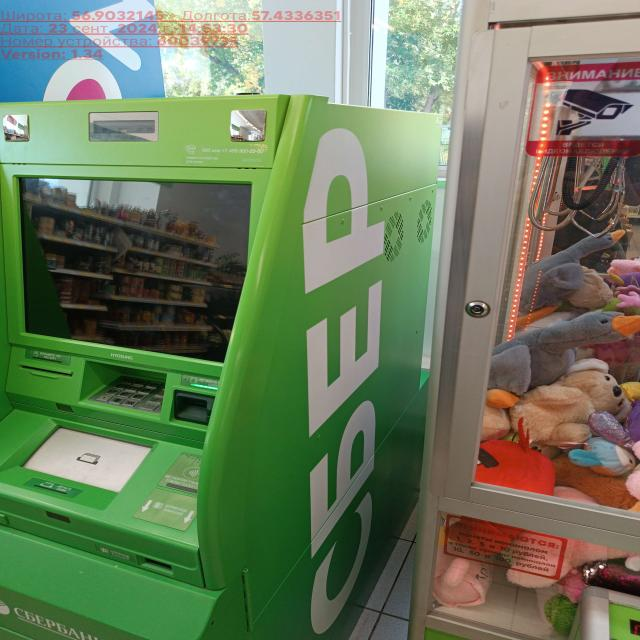bank: (0, 96, 455, 640)
